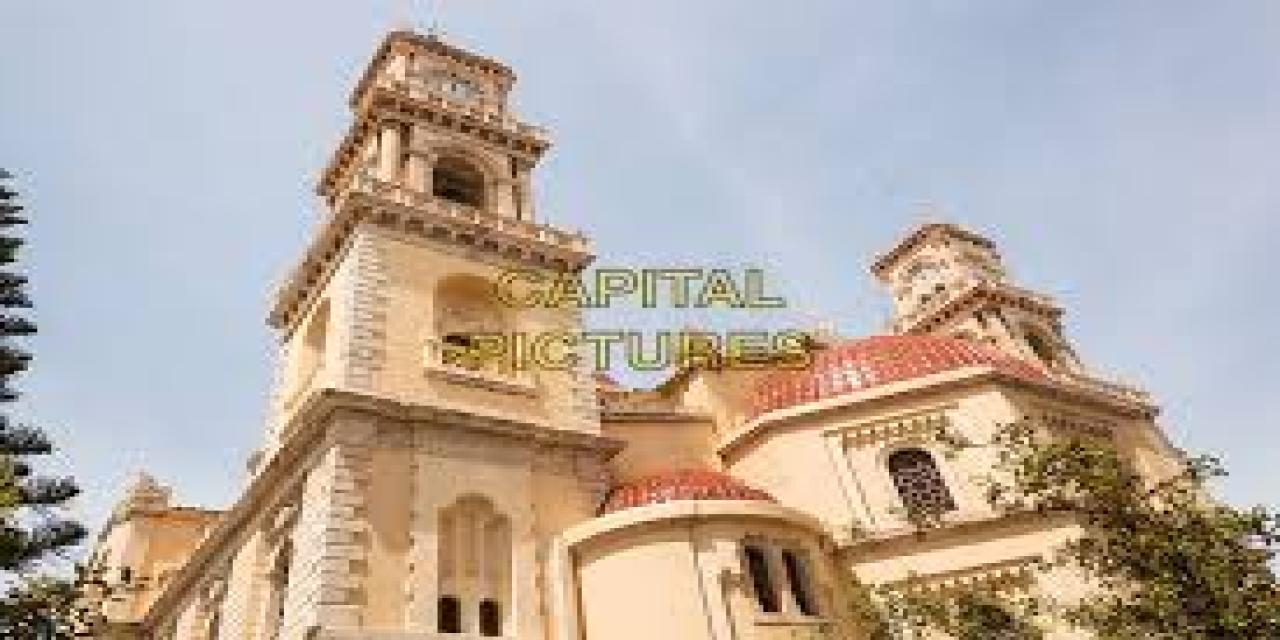Agios Minas: (95, 40, 1280, 640)
